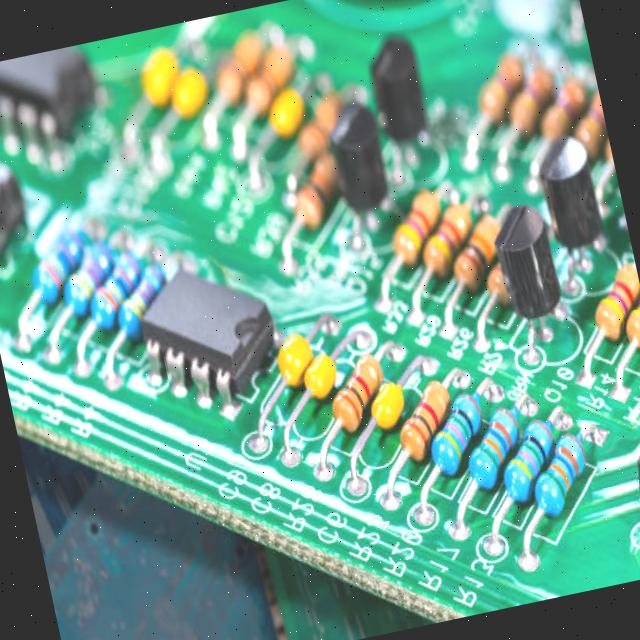IC: (138, 254, 282, 406)
resistor: (523, 424, 604, 538), (486, 406, 572, 504), (419, 375, 494, 486), (320, 342, 394, 448), (404, 195, 483, 285), (569, 255, 640, 353), (22, 220, 101, 301), (393, 362, 457, 456), (83, 247, 145, 341), (107, 264, 180, 342), (384, 182, 447, 266), (465, 400, 527, 485), (56, 237, 120, 318), (446, 212, 509, 292)
transistor: (483, 196, 579, 378), (316, 94, 409, 264), (528, 126, 622, 294), (364, 27, 449, 196)
